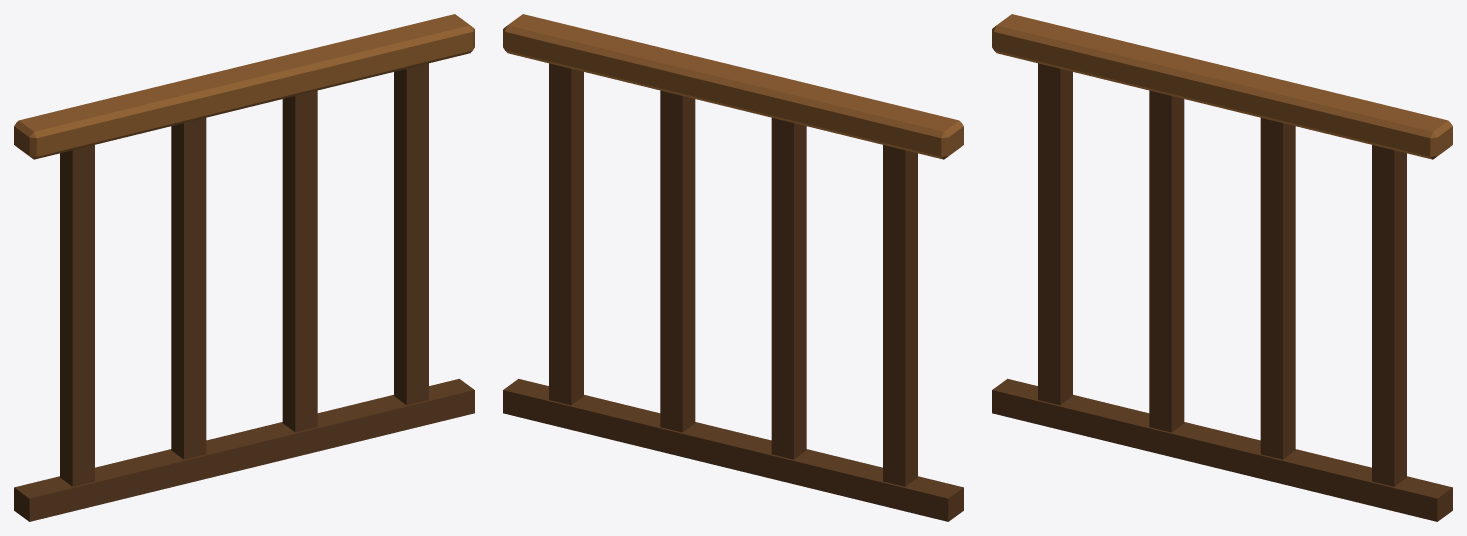
Rendered from PR_Building_Korkuluk.fbx.
3 views of the same model, side by side, from view 1: azimuth 30°, elevation 25°; view 2: azimuth 150°, elevation 25°; view 3: azimuth 330°, elevation 25° (orthographic).
Parts seen in each view (by area): view 1: PR_Building_Korkuluk; view 2: PR_Building_Korkuluk; view 3: PR_Building_Korkuluk.
Part boxes in pixels (x1,y1,x2,y2): PR_Building_Korkuluk: [14, 14, 474, 521]; PR_Building_Korkuluk: [503, 14, 963, 521]; PR_Building_Korkuluk: [992, 14, 1452, 521].
Bounding box in the file's own units: 1 × 0.835 × 0.08.
1 material, 1 textured.
